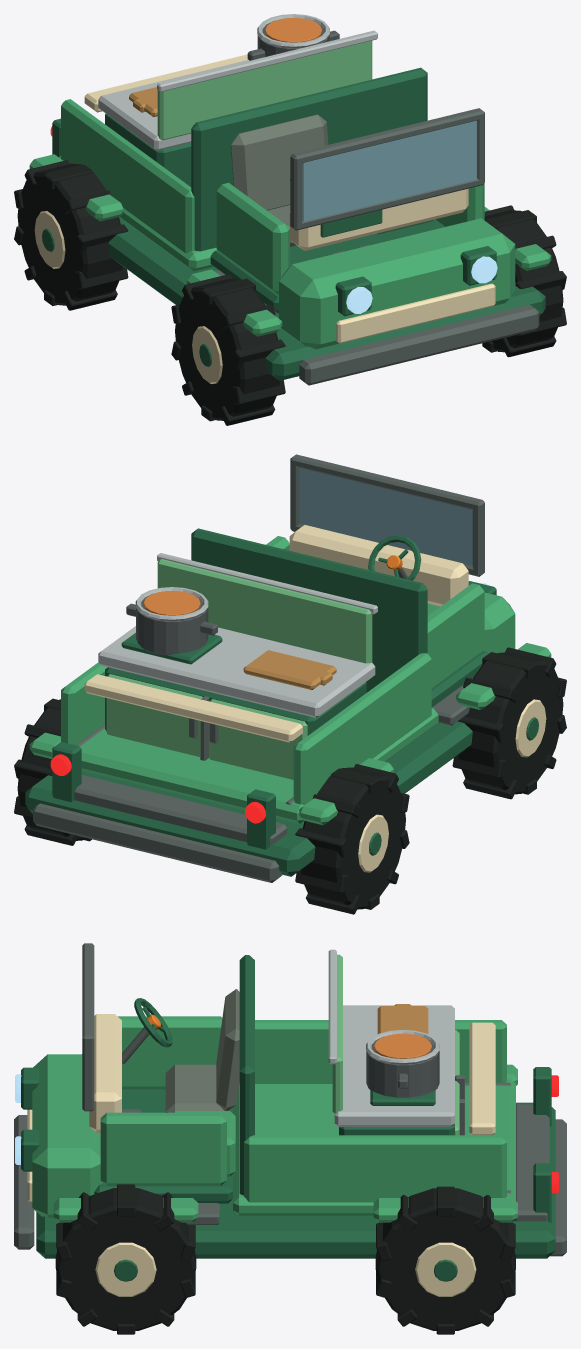
File: KitchenCar.glb
The picture shows the model from 3 angles, top to bottom: view 1: azimuth 30°, elevation 25°; view 2: azimuth 150°, elevation 25°; view 3: azimuth 270°, elevation 25°; orthographic projection.
Parts seen in each view (by area): view 1: FTF_Vehicle_FieldKitchen_Green_v3_Static, Wheel_FL_Mesh, Wheel_RL_Mesh, Wheel_FR_Mesh; view 2: FTF_Vehicle_FieldKitchen_Green_v3_Static, Wheel_FL_Mesh, Wheel_RL_Mesh, Wheel_RR_Mesh, SteeringWheel_Mesh; view 3: FTF_Vehicle_FieldKitchen_Green_v3_Static, Wheel_FR_Mesh, Wheel_RR_Mesh, SteeringWheel_Mesh.
Part boxes in pixels (bbox=[...]): FTF_Vehicle_FieldKitchen_Green_v3_Static: bbox=[25, 14, 551, 385]; Wheel_FL_Mesh: bbox=[171, 274, 285, 425]; Wheel_RL_Mesh: bbox=[14, 160, 128, 310]; Wheel_FR_Mesh: bbox=[482, 205, 566, 357]; FTF_Vehicle_FieldKitchen_Green_v3_Static: bbox=[25, 454, 551, 882]; Wheel_FL_Mesh: bbox=[452, 647, 566, 799]; Wheel_RL_Mesh: bbox=[295, 764, 409, 914]; Wheel_RR_Mesh: bbox=[14, 698, 91, 845]; SteeringWheel_Mesh: bbox=[368, 535, 421, 580]; FTF_Vehicle_FieldKitchen_Green_v3_Static: bbox=[14, 943, 566, 1258]; Wheel_FR_Mesh: bbox=[55, 1184, 196, 1334]; Wheel_RR_Mesh: bbox=[375, 1186, 515, 1334]; SteeringWheel_Mesh: bbox=[134, 998, 172, 1047].
Size of the model in its own units: 3.79 by 2.86 by 5.43.
